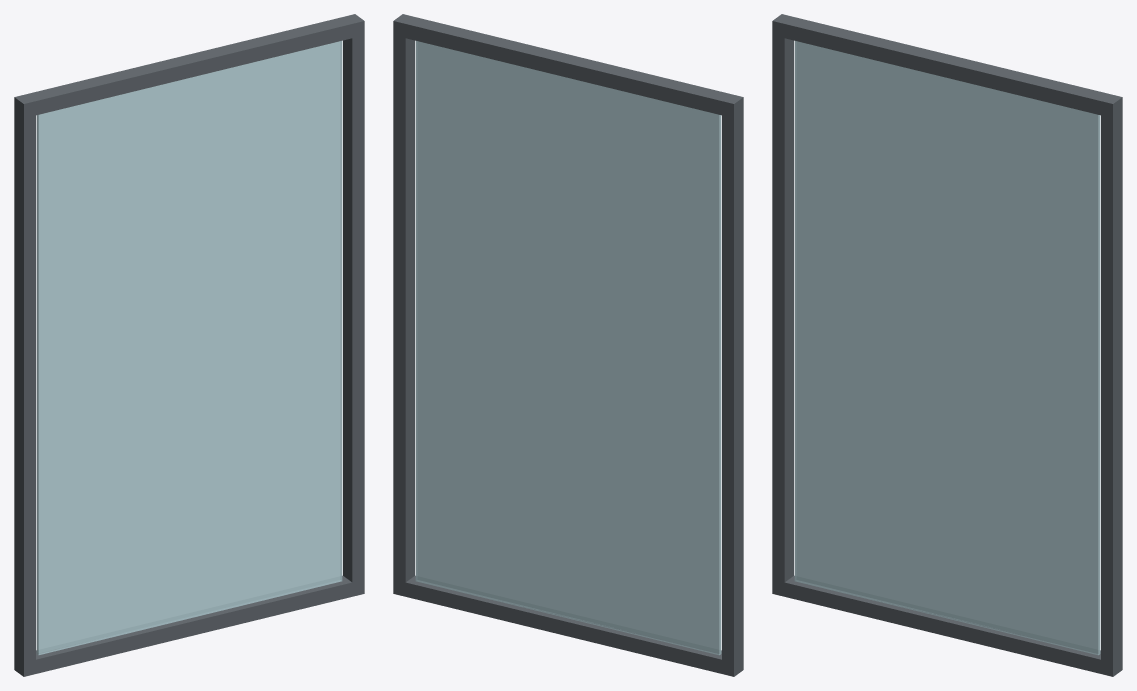
File: division-negro-esmerilado.glb
The picture shows the model from 3 angles, left to right: view 1: azimuth 30°, elevation 25°; view 2: azimuth 150°, elevation 25°; view 3: azimuth 330°, elevation 25°; orthographic projection.
Visible parts, largest first — view 1: glass, post-0.6, post0.6, rail1.975, rail0.025; view 2: glass, post-0.6, post0.6, rail1.975, rail0.025; view 3: glass, post0.6, post-0.6, rail1.975, rail0.025.
Boxes of the visible parts, x1,y1,x2,y2 form: glass: (36, 41, 342, 655); post-0.6: (14, 94, 35, 676); post0.6: (343, 14, 364, 596); rail1.975: (21, 17, 357, 116); rail0.025: (36, 575, 354, 673); glass: (415, 41, 721, 655); post-0.6: (722, 94, 743, 676); post0.6: (393, 14, 414, 596); rail1.975: (399, 17, 736, 116); rail0.025: (402, 575, 727, 673); glass: (794, 41, 1100, 655); post0.6: (1101, 94, 1122, 676); post-0.6: (772, 14, 793, 596); rail1.975: (778, 17, 1115, 116); rail0.025: (781, 575, 1106, 673).
Size of the model in its own units: 1.25 by 2 by 0.06.
